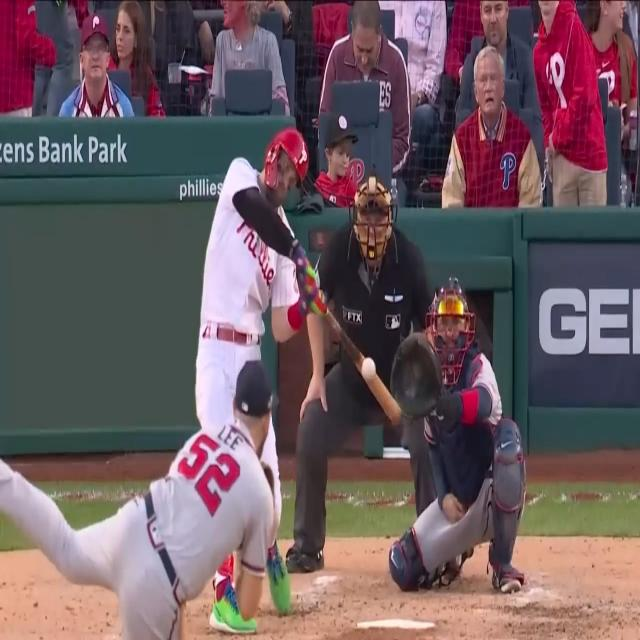baseball: (361, 354, 377, 386)
